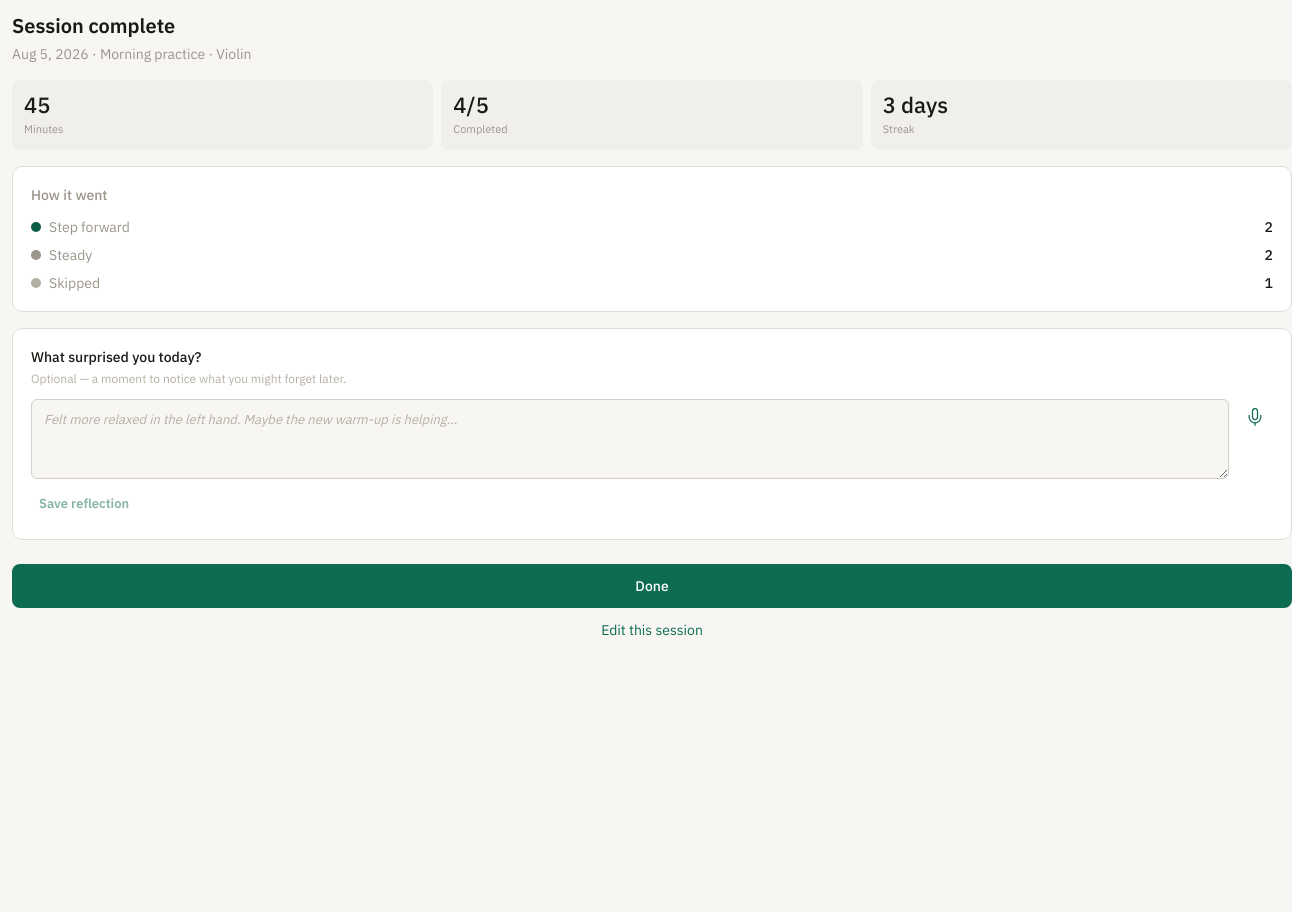
Test: session summary reflection voice input › appends dictation to text already typed, and keeps it editable
Expected: the text "What surprised you today?" is shown, [31,348,201,366]
Type "bow hold" into the text box with placeholder "Felt more relaxed" at (630, 439), box [31,399,1229,479]
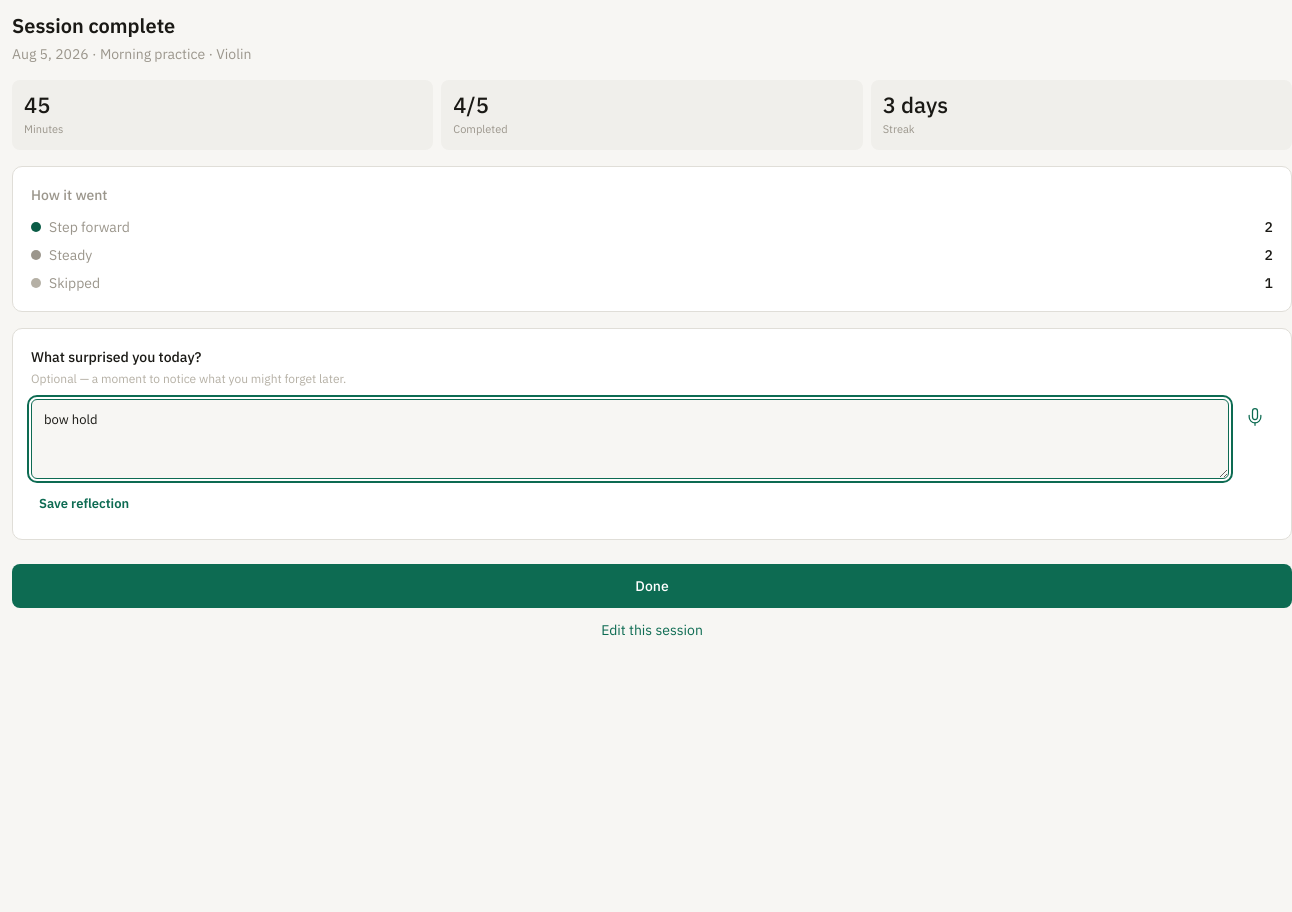
Click the button named "Dictate your reflection" at (1255, 417), box [1237,399,1273,435]
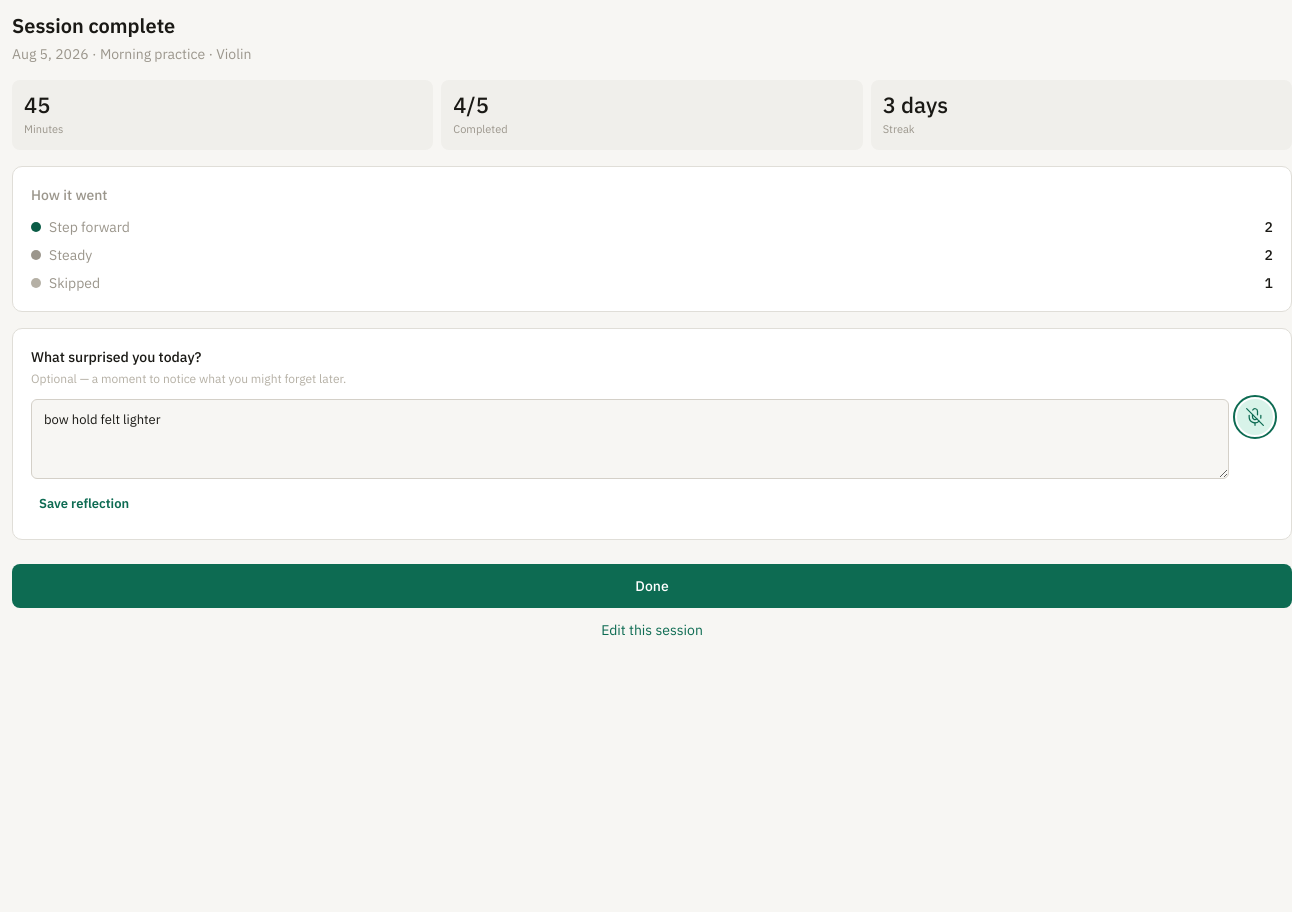
Expected: the text box with placeholder "Felt more relaxed" holds "bow hold felt lighter"
Type " than usual" into the text box with placeholder "Felt more relaxed" at (630, 439), box [31,399,1229,479]
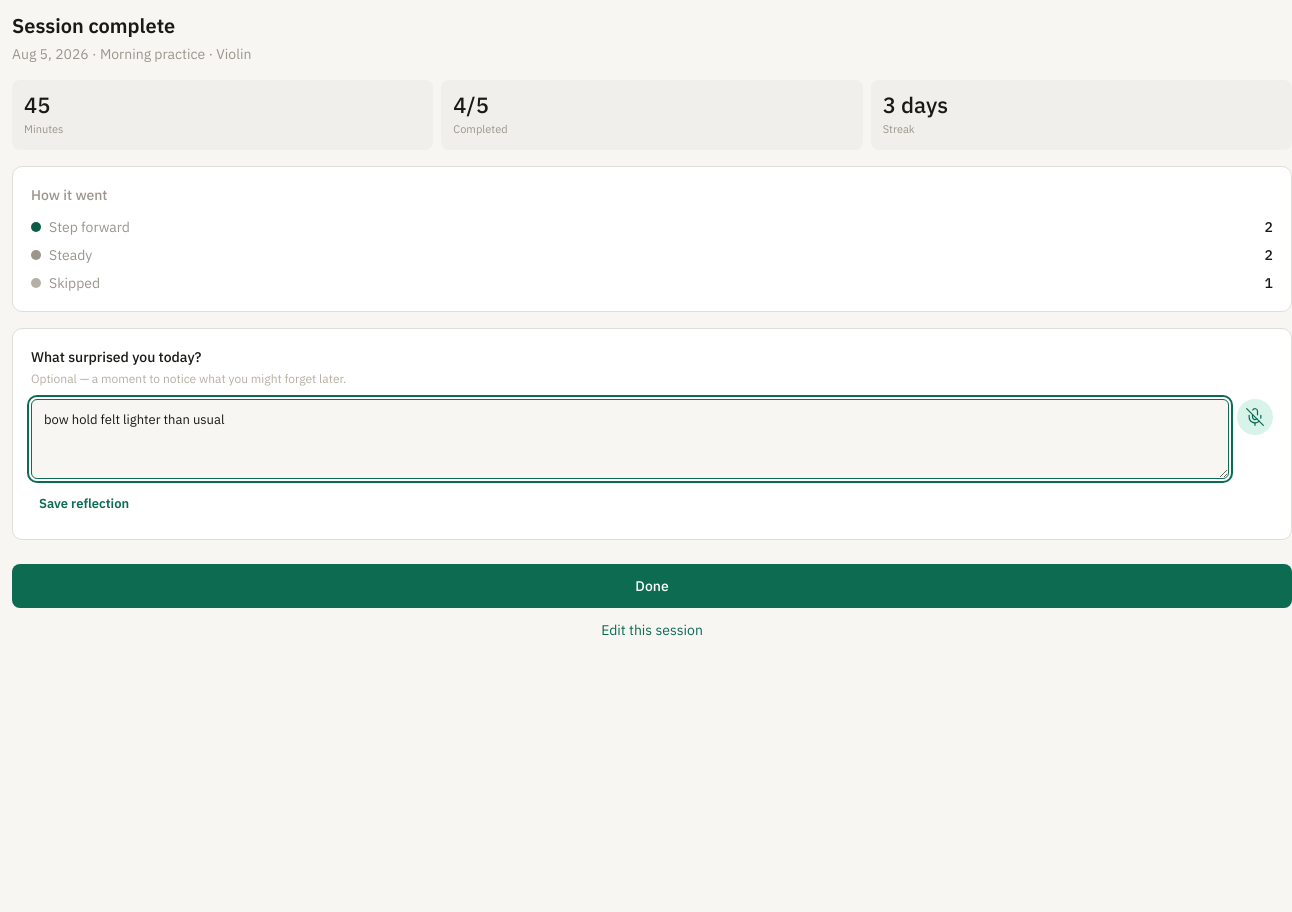
Expected: the text box with placeholder "Felt more relaxed" holds "bow hold felt lighter than usual", [31,399,1229,479]
